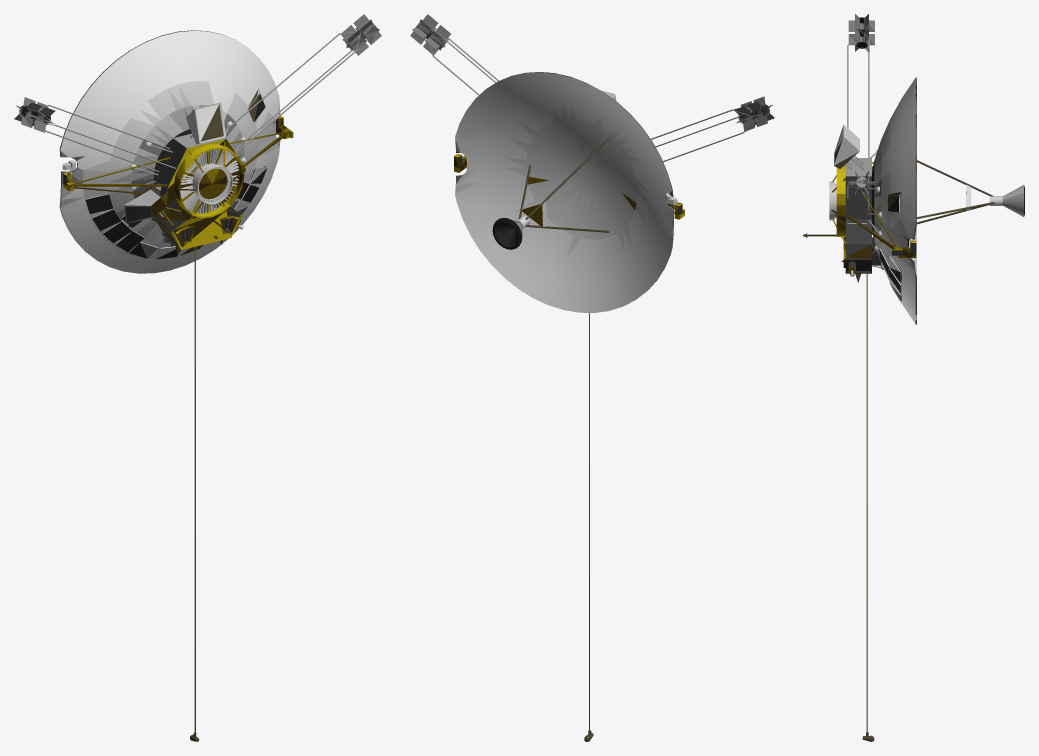
The model's file is pioneer.glb.
3 renders of one model, left to right at view 1: azimuth 30°, elevation 25°; view 2: azimuth 150°, elevation 25°; view 3: azimuth 270°, elevation 25°, orthographic. The views are drawn at different scales.
Parts seen in each view (by area): view 1: body, foil; view 2: body, foil; view 3: body, foil.
Part boxes in pixels (x1,y1,x2,y2): body: (14, 14, 381, 741); foil: (63, 104, 293, 733); body: (410, 14, 774, 741); foil: (454, 154, 684, 730); body: (803, 14, 1024, 741); foil: (807, 127, 966, 732).
Size of the model in its own units: 4.52 by 8.25 by 2.54.
